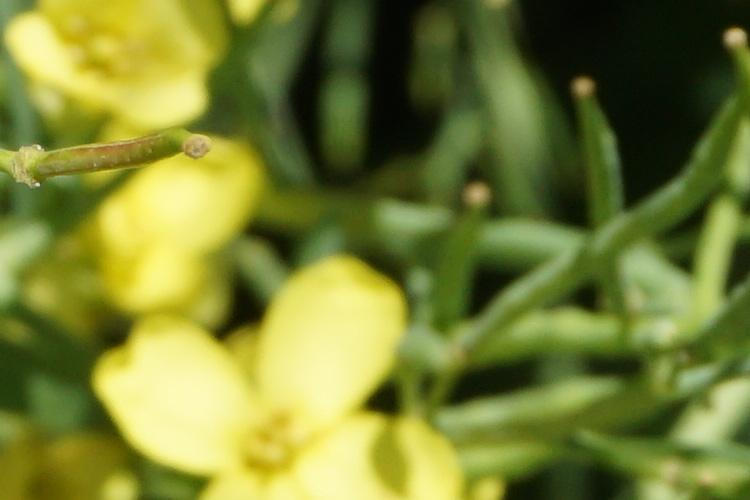pod: (13, 129, 230, 181)
yellow: (127, 266, 442, 494)
